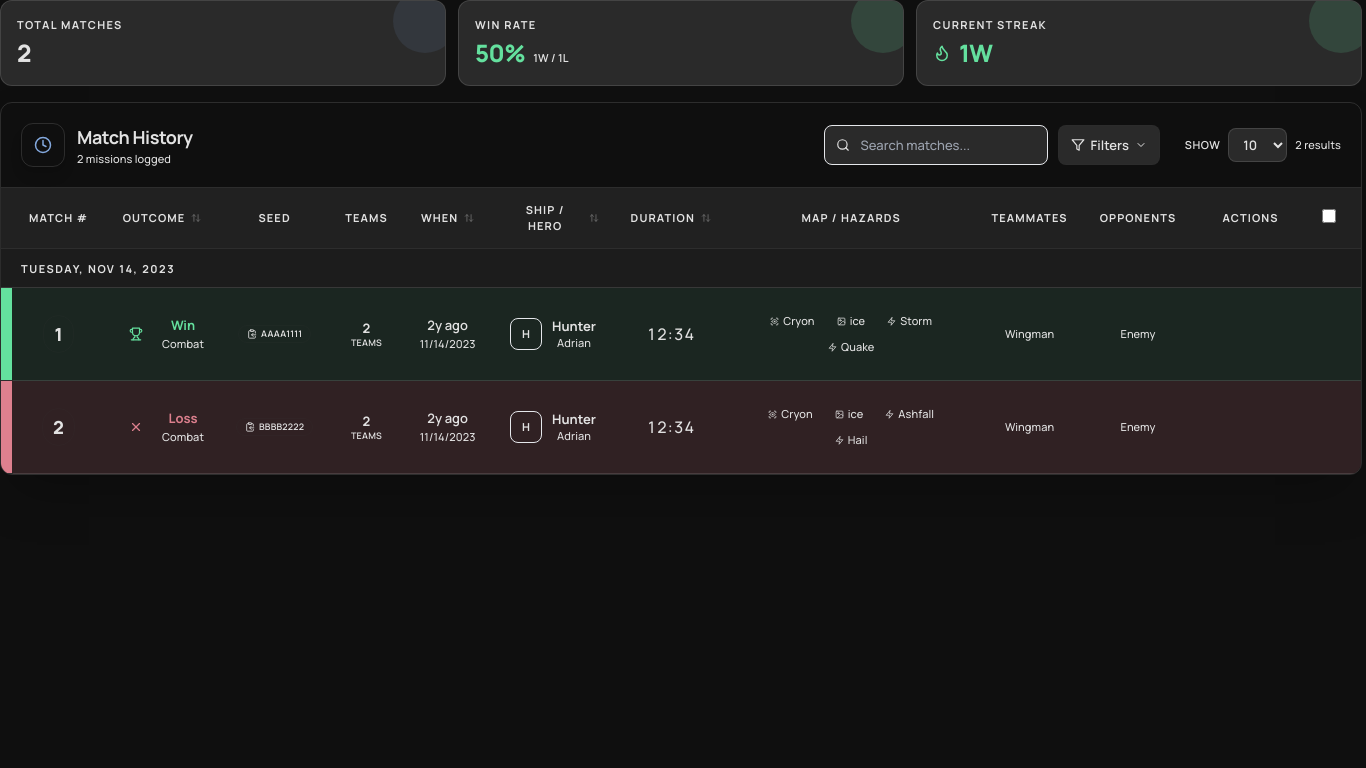
it: HistoryTable › lets multiple hazards be selected from the condensed hazard filter
The width and height of the screenshot is (1366, 768).
Click the button "Filters".
click(1109, 145)  # box [1058, 125, 1160, 165]
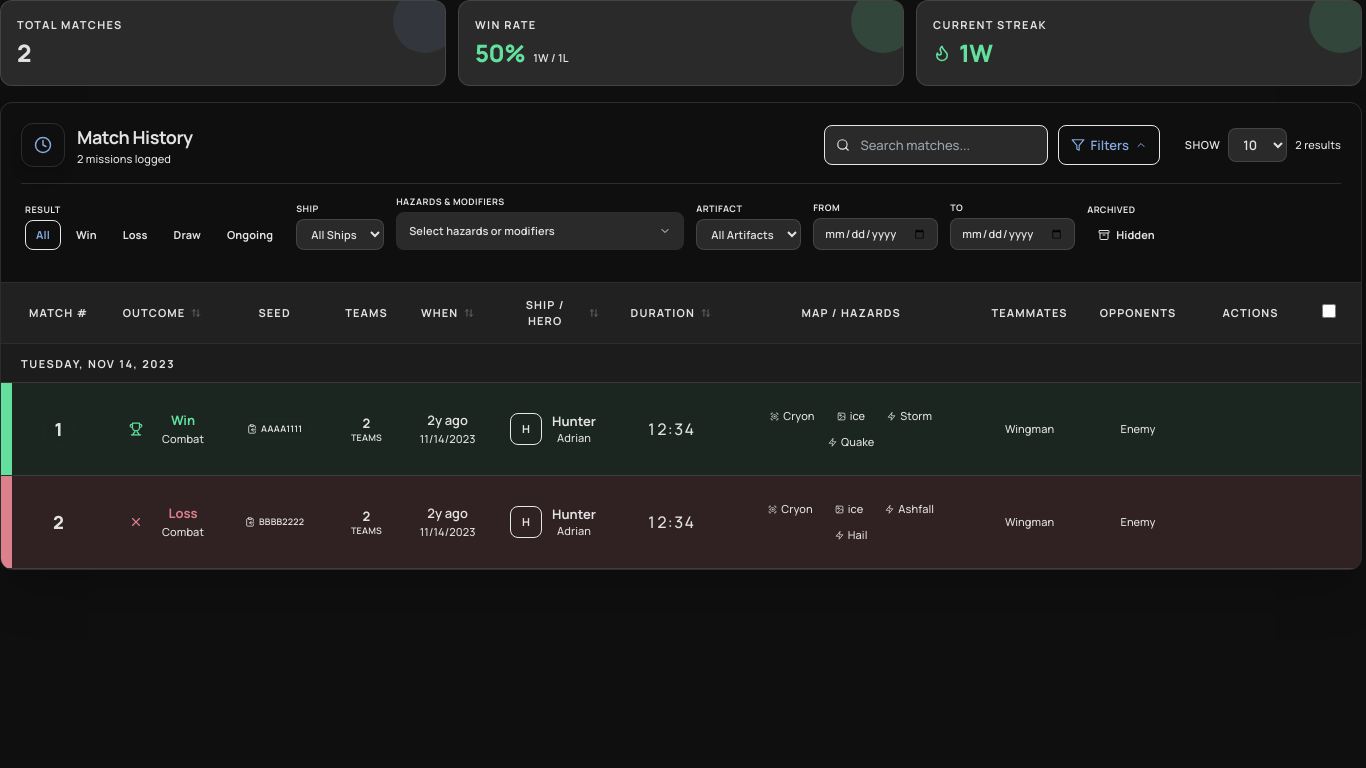
Click the button "Select hazards or modifiers".
click(540, 231)  # box [396, 212, 684, 250]
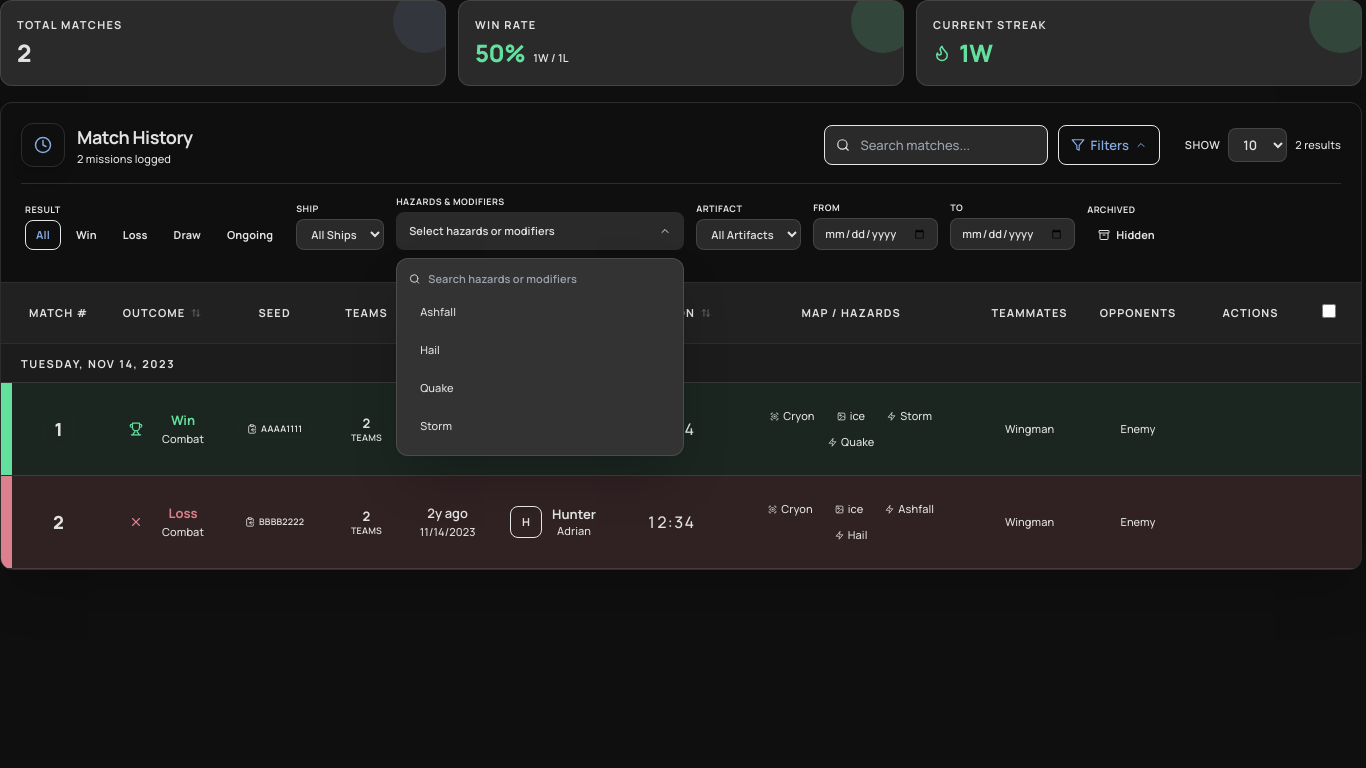
Click the button "Storm".
click(538, 426)  # box [409, 409, 667, 443]
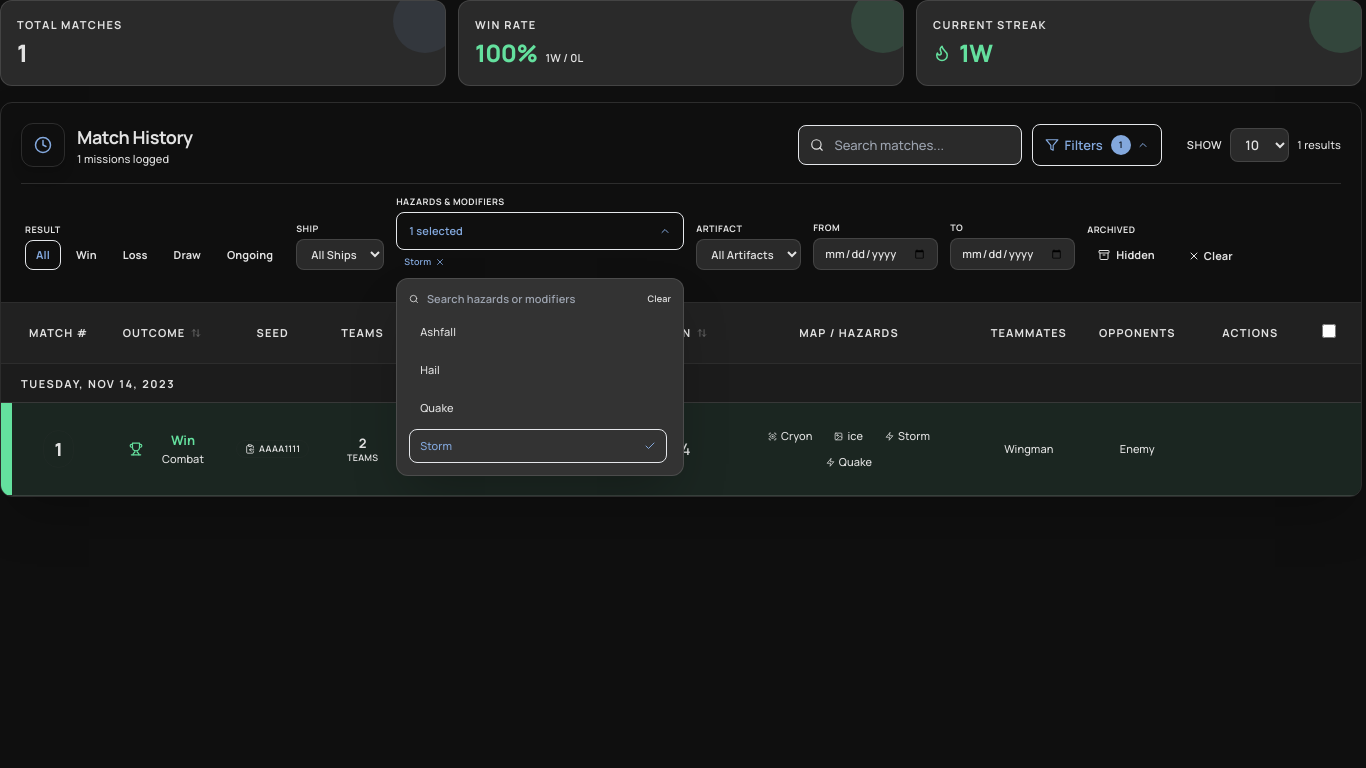
Expected: the button "1" is shown, [43, 430, 74, 468]
Click the button "Ashfall".
click(538, 332)  # box [409, 315, 667, 349]
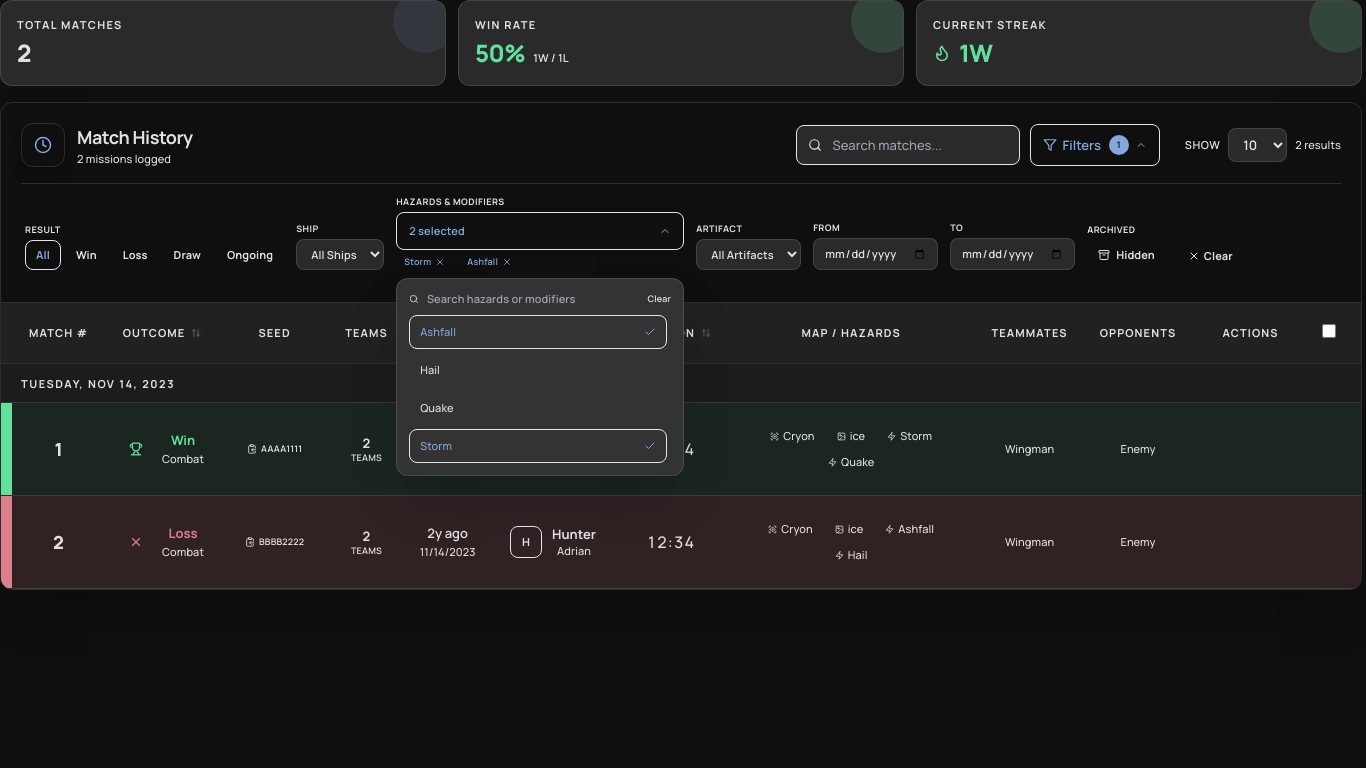
Expected: the button "1" is shown, [43, 430, 74, 468]
Expected: the button "2" is shown, [42, 523, 75, 561]
